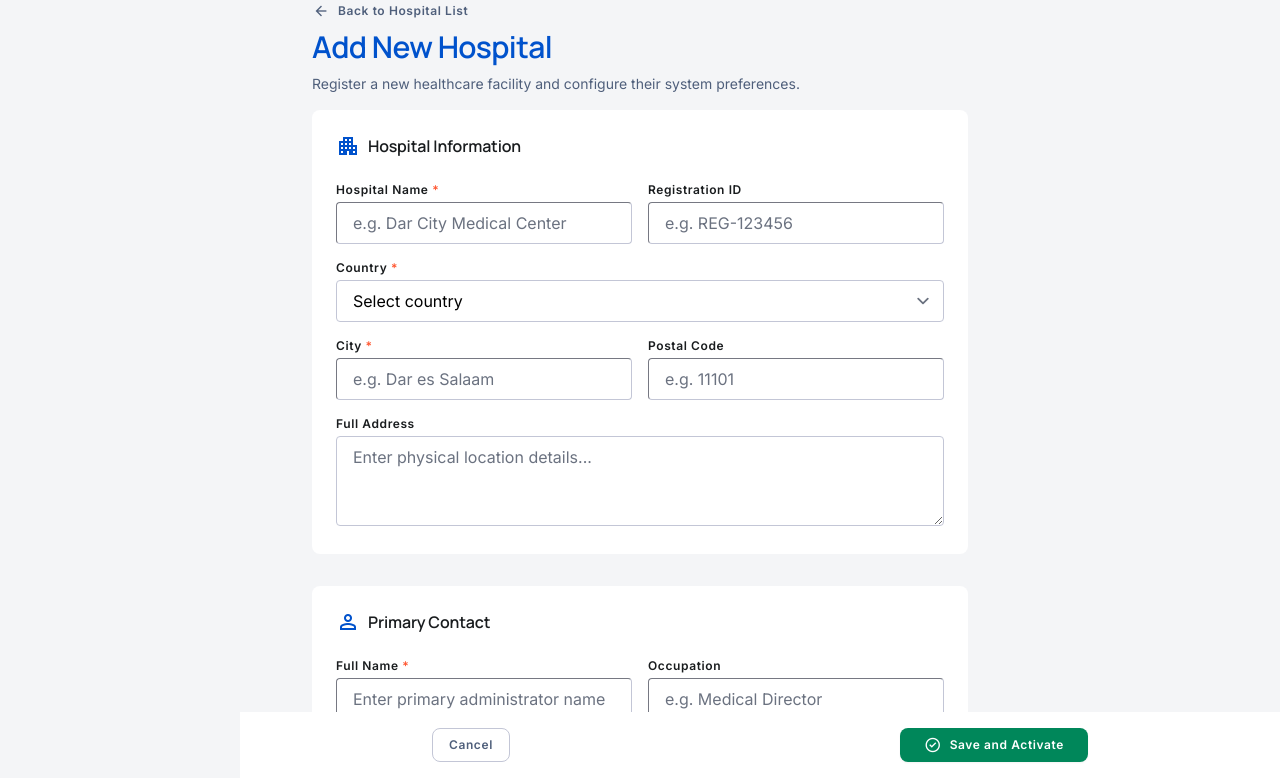
Test: CreateTenantPage › prefills city, timezone, and currency when country is changed
# Change country to Kenya
Select "Kenya" in the dropdown labelled "Country *" at (640, 301), box x1=336 y1=280 x2=944 y2=322
(page scrolled)
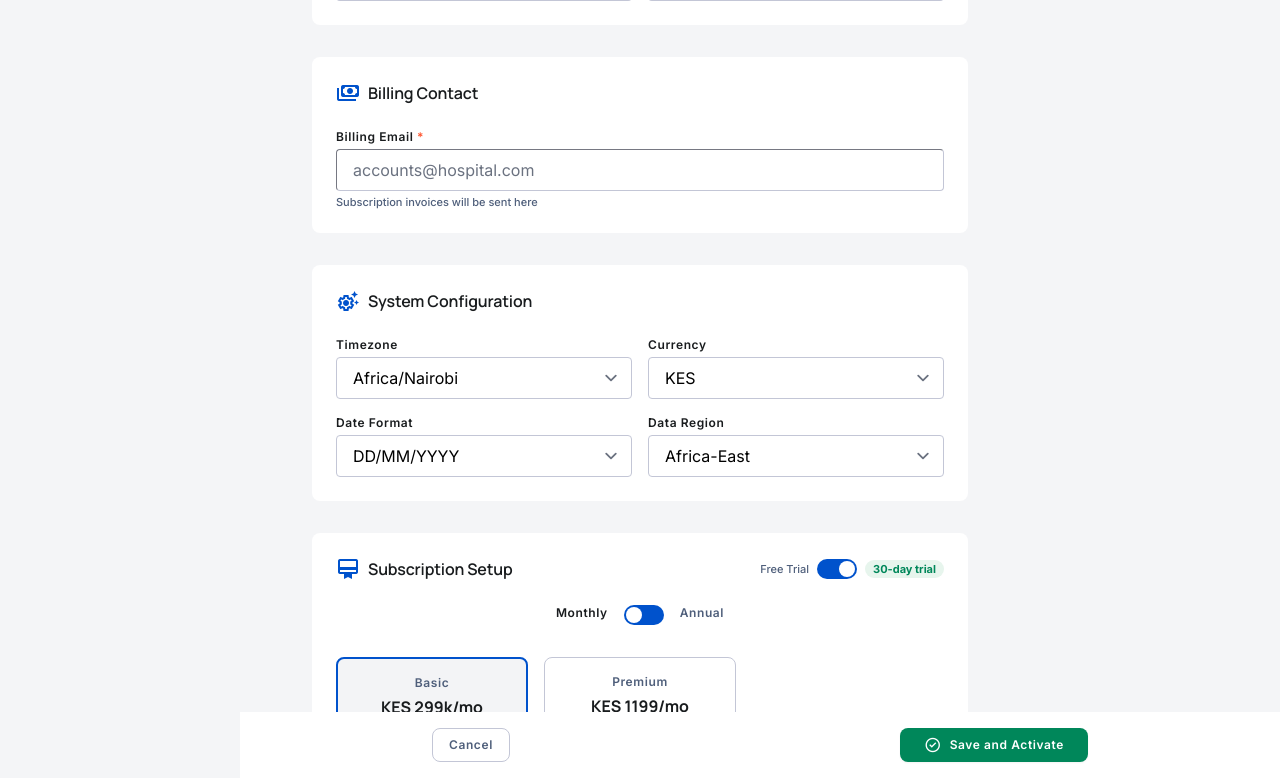
Now the dropdown labelled "Timezone" shows "Africa/Nairobi", box x1=336 y1=357 x2=632 y2=399
Now the dropdown labelled "Currency" shows "KES", box x1=648 y1=357 x2=944 y2=399
